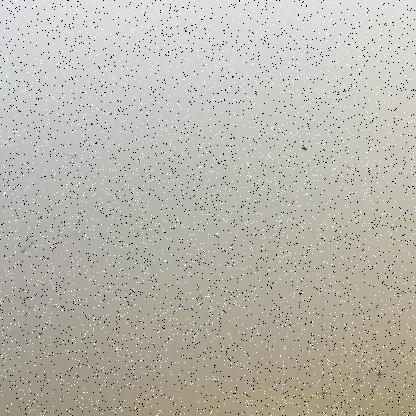Nocrack: (0, 0, 393, 407)
